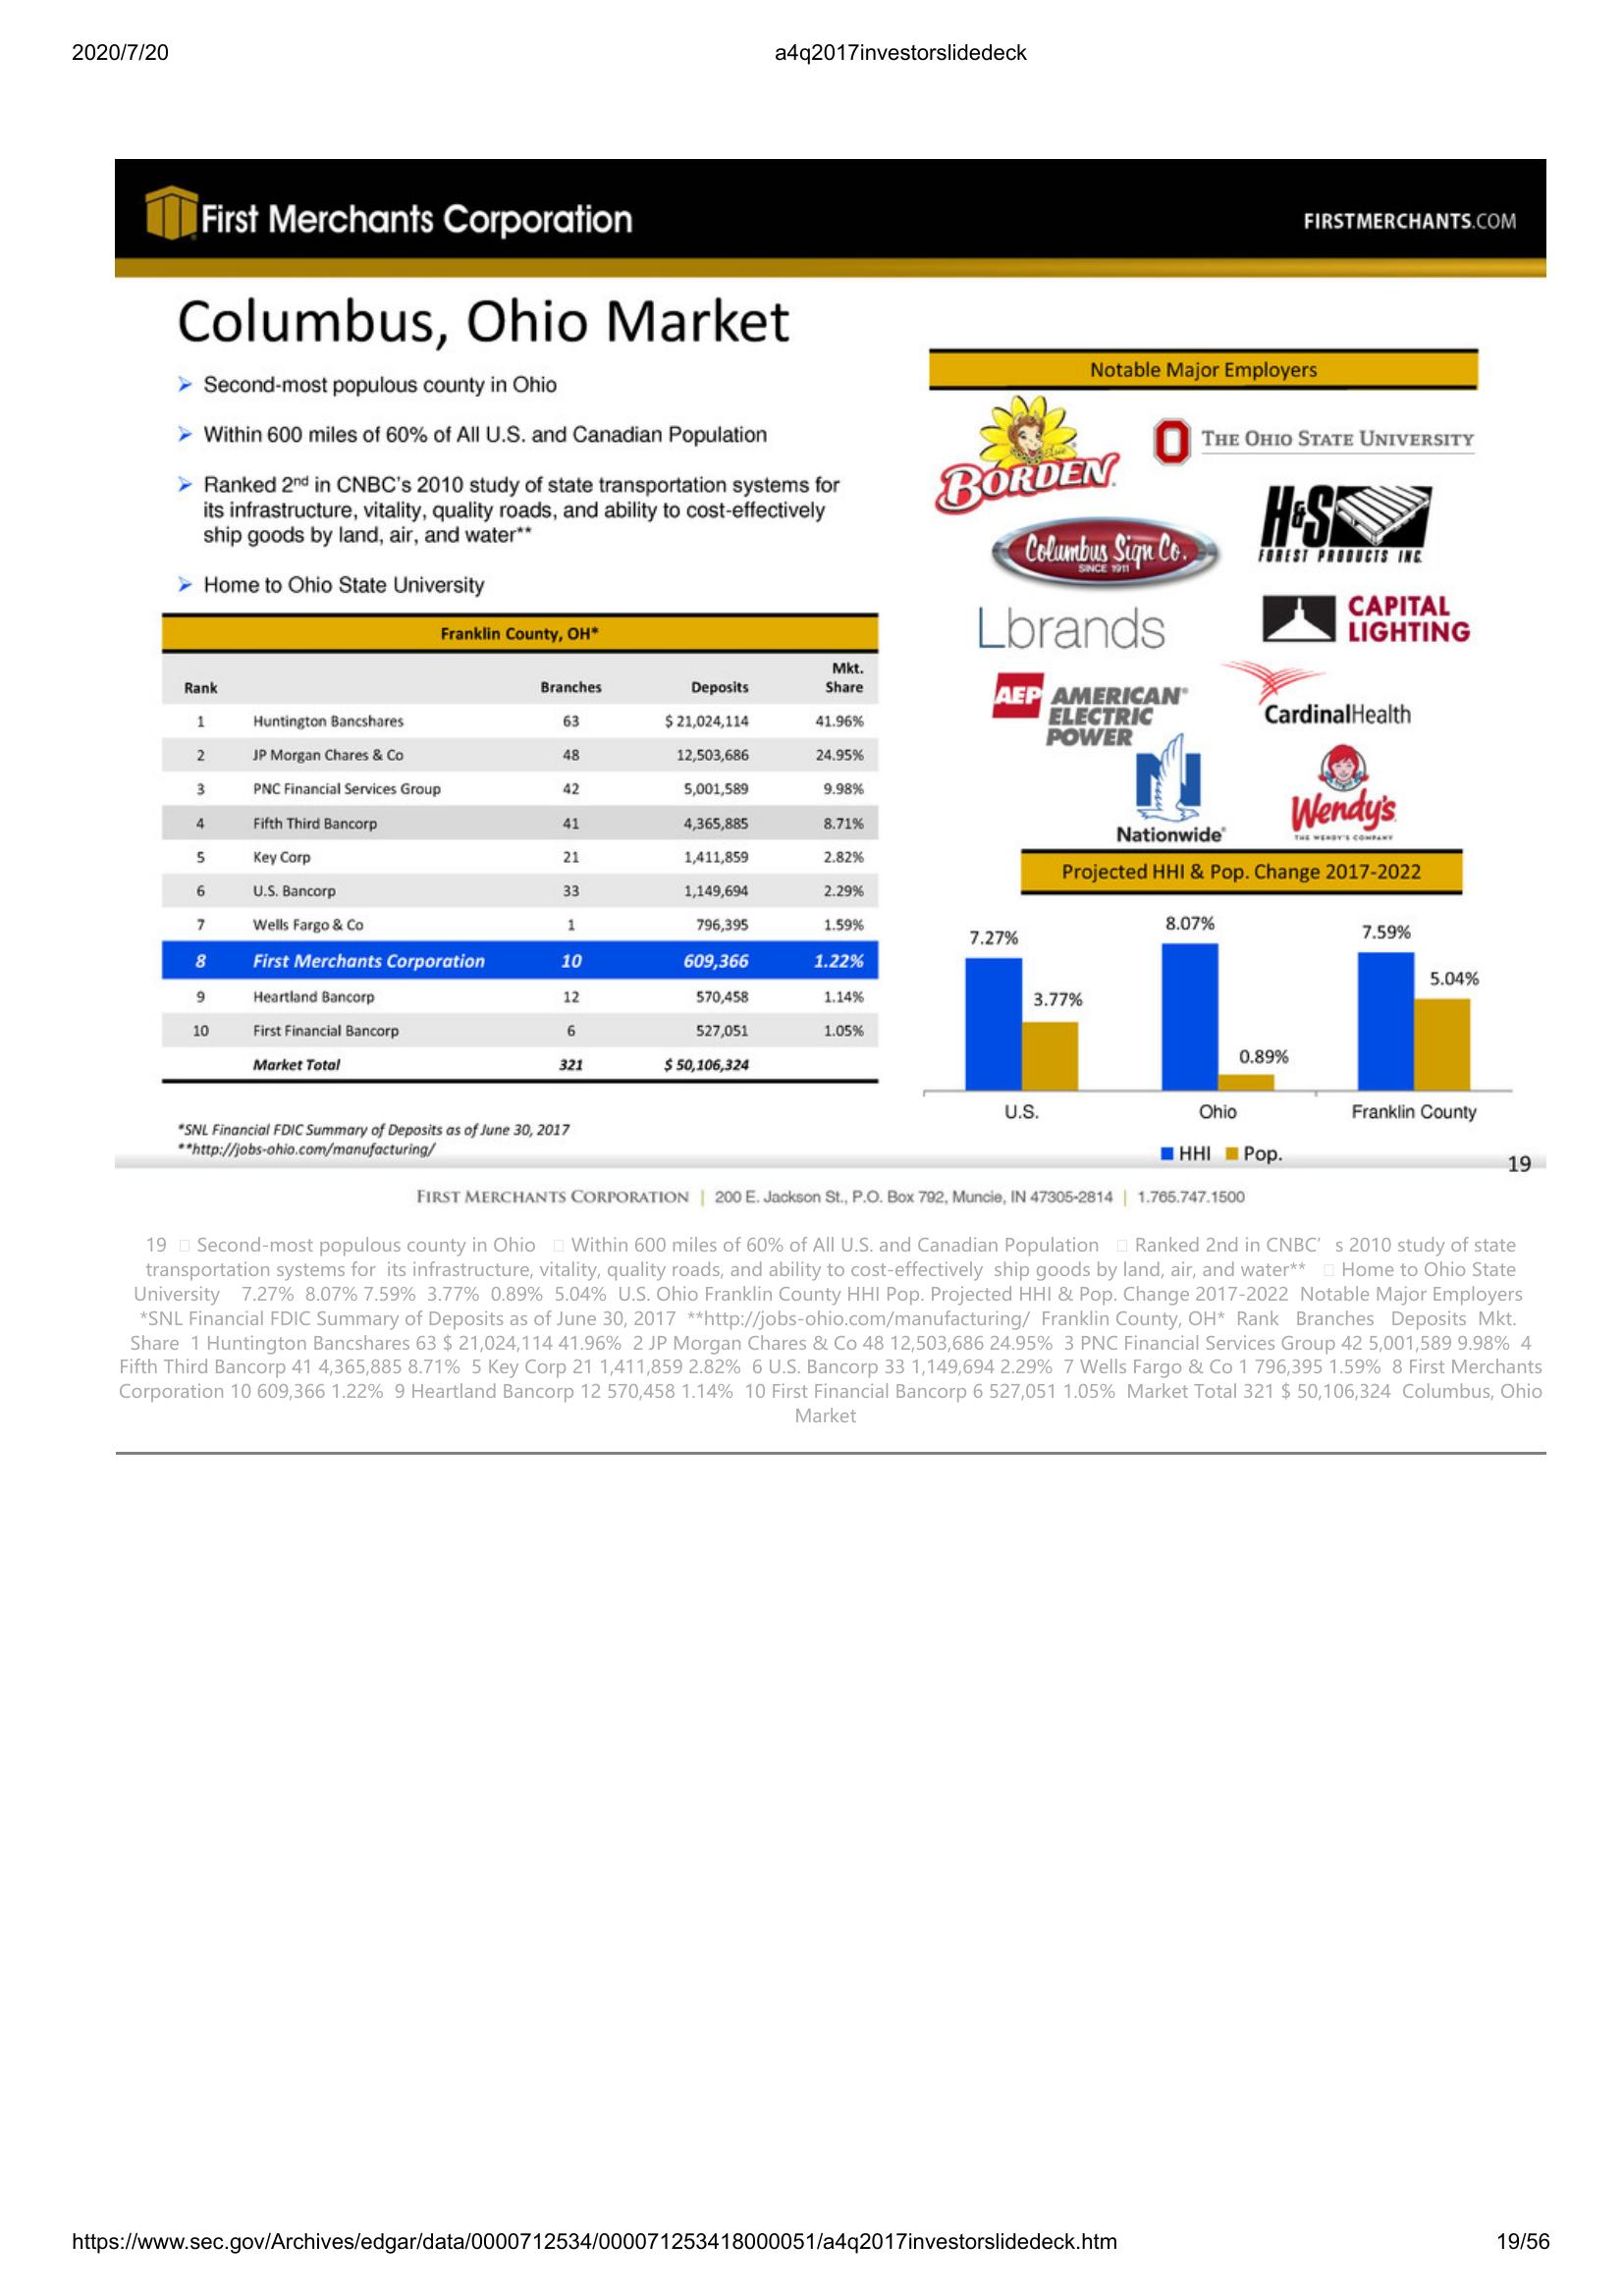table: (156, 609, 887, 1090)
